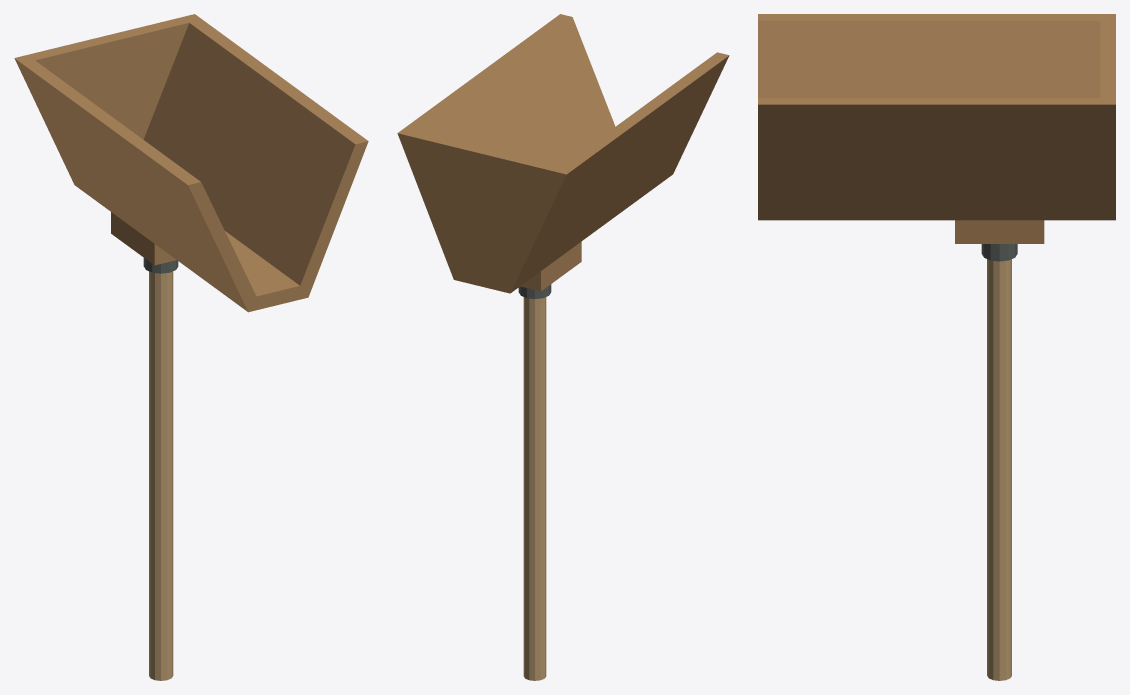
3 views of the same model, side by side, from view 1: azimuth 30°, elevation 25°; view 2: azimuth 150°, elevation 25°; view 3: azimuth 270°, elevation 25° (orthographic). The views are drawn at different scales.
Parts seen in each view (by area): view 1: WholeOpenFrontDeepHodTroughAndBack, WholeLongUnderHeadCarryingPole, WholeUnderTroughPoleCradle; view 2: WholeOpenFrontDeepHodTroughAndBack, WholeLongUnderHeadCarryingPole, WholeUnderTroughPoleCradle; view 3: WholeOpenFrontDeepHodTroughAndBack, WholeLongUnderHeadCarryingPole, WholeUnderTroughPoleCradle, WholeFixedMetalPoleCollar.
Boxes of the visible parts, x1,y1,x2,y2 form: WholeOpenFrontDeepHodTroughAndBack: [14, 14, 368, 312]; WholeLongUnderHeadCarryingPole: [149, 271, 173, 680]; WholeUnderTroughPoleCradle: [111, 212, 176, 265]; WholeOpenFrontDeepHodTroughAndBack: [397, 14, 729, 293]; WholeLongUnderHeadCarryingPole: [523, 297, 546, 680]; WholeUnderTroughPoleCradle: [520, 241, 581, 291]; WholeOpenFrontDeepHodTroughAndBack: [758, 14, 1115, 220]; WholeLongUnderHeadCarryingPole: [987, 259, 1011, 680]; WholeUnderTroughPoleCradle: [955, 220, 1044, 243]; WholeFixedMetalPoleCollar: [981, 244, 1017, 261].
Size of the model in its own units: 0.48 by 1.52 by 0.8.
